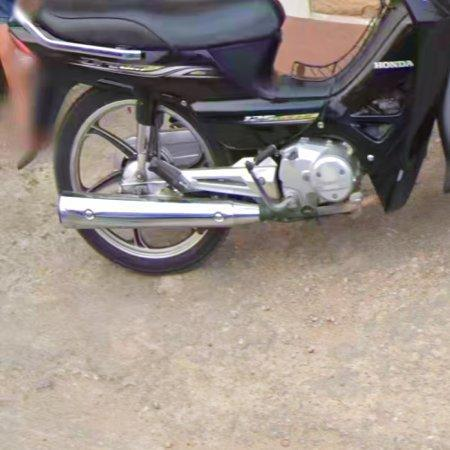motorcycles: (10, 0, 450, 273)
